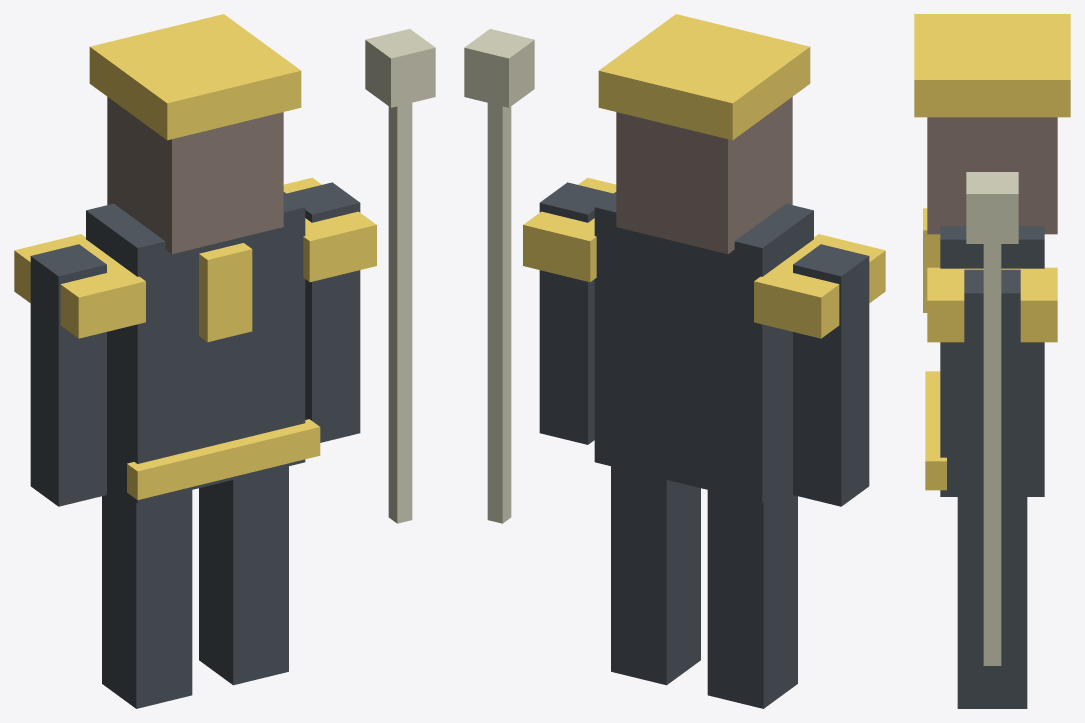
The model's file is 06_eryk_chromabell_scout_at_trench.glb.
3 views of the same model, side by side, from view 1: azimuth 30°, elevation 25°; view 2: azimuth 150°, elevation 25°; view 3: azimuth 270°, elevation 25° (orthographic).
Visible parts, largest first — view 1: Eryk Chromabell, Scout at Trench; view 2: Eryk Chromabell, Scout at Trench; view 3: Eryk Chromabell, Scout at Trench.
Boxes of the visible parts, x1,y1,x2,y2 form: Eryk Chromabell, Scout at Trench: (14, 14, 435, 708); Eryk Chromabell, Scout at Trench: (464, 14, 885, 708); Eryk Chromabell, Scout at Trench: (914, 14, 1070, 708).
Bounding box in the file's own units: 0.9571 × 1.5 × 0.3395.
